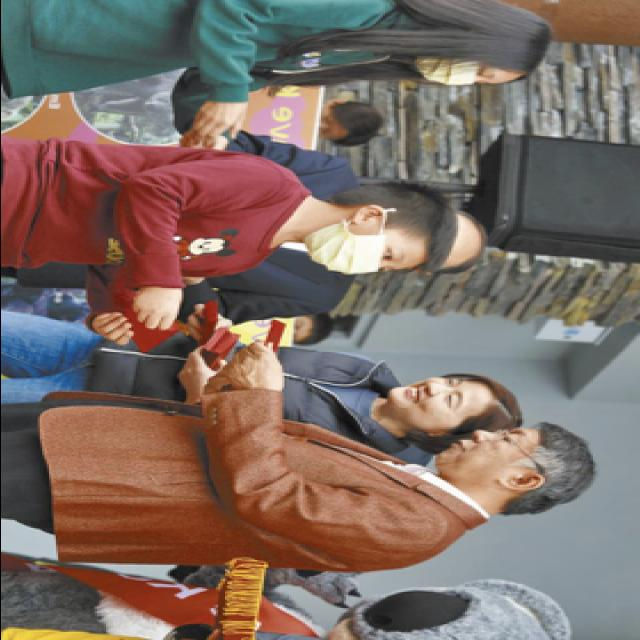mask: (304, 221, 409, 277), (412, 54, 501, 88)
no_mask: (434, 427, 530, 480), (388, 376, 471, 429)
